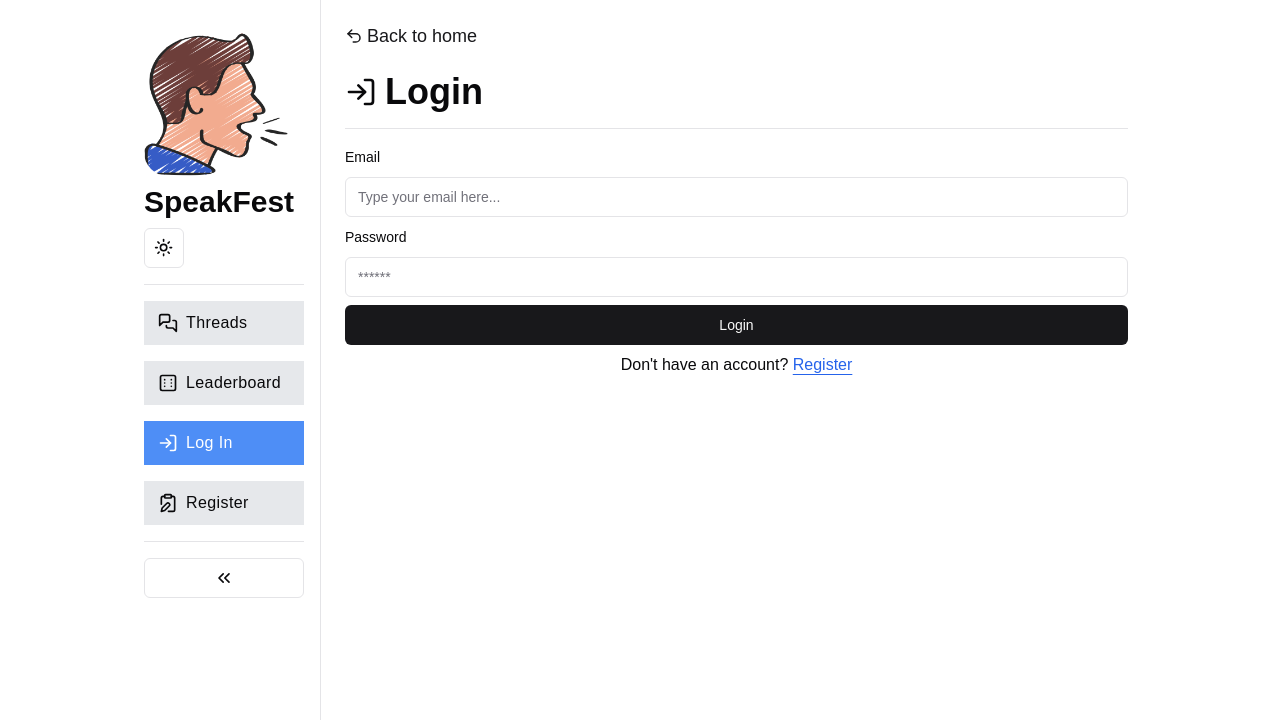
Test: Login spec › should display error message & disabled button login if email or password is empty
Click the button "Login" at [737, 325], box [345,305,1128,345]
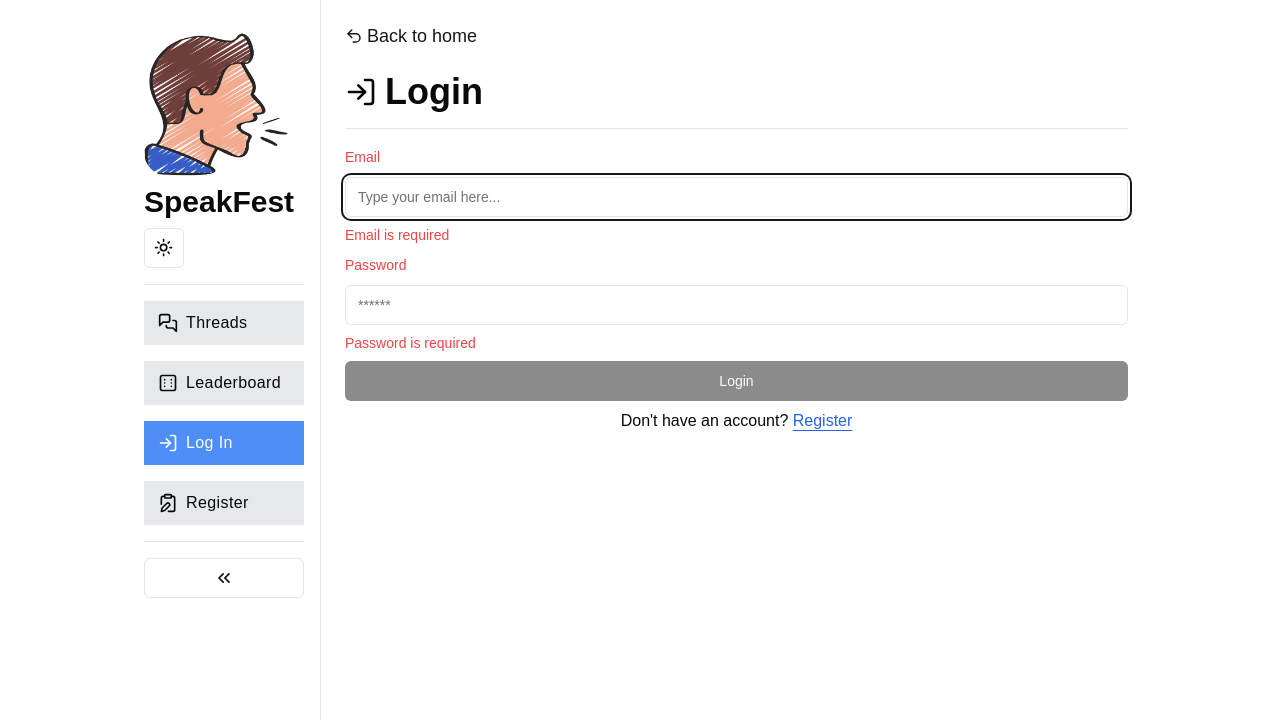
Expected: the button without text below "SpeakFest" is disabled, [144,228,184,268]
Now the text "Email is required" is shown, box [345,227,449,243]
Now the text "Password is required" is shown, box [345,335,476,351]
